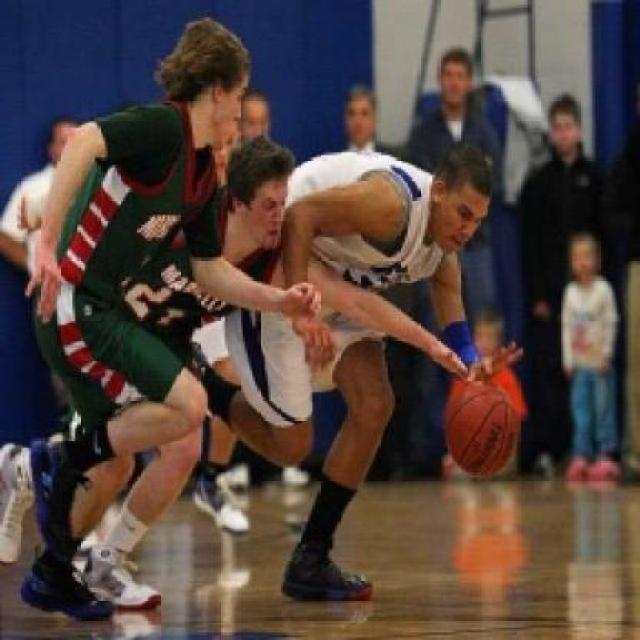basketball: (434, 374, 526, 486)
